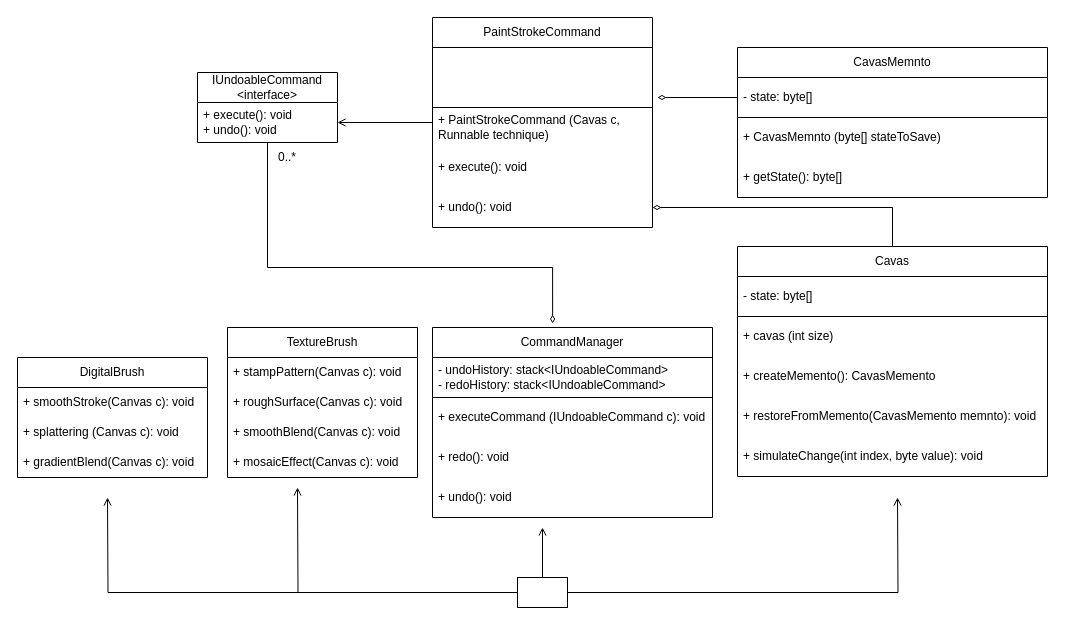
The diagram is 1065 pixels wide and 625 high, and some of its shapes have lost their labels. The shapes that lost their labels are listed below. From the top down, each one's centre as x and y in pixels, then its label:
the point at 542,77: - technique: Runnable - cavas: Cavas - beforeState: CavasMemnto
the point at 542,592: client
